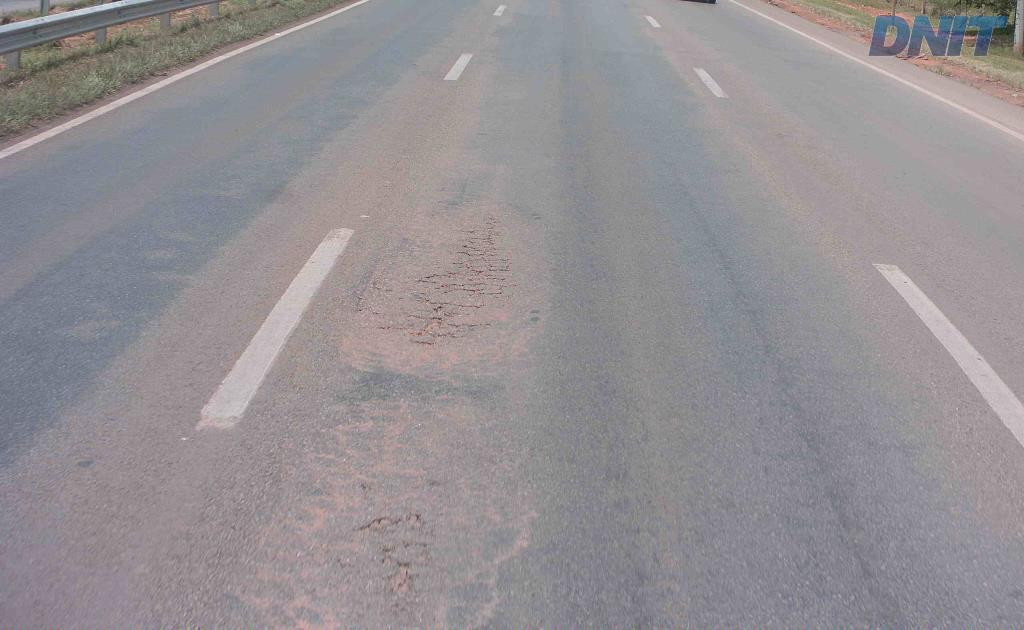crack: (434, 217, 520, 298), (407, 292, 486, 344), (378, 543, 419, 589), (351, 516, 404, 536)
